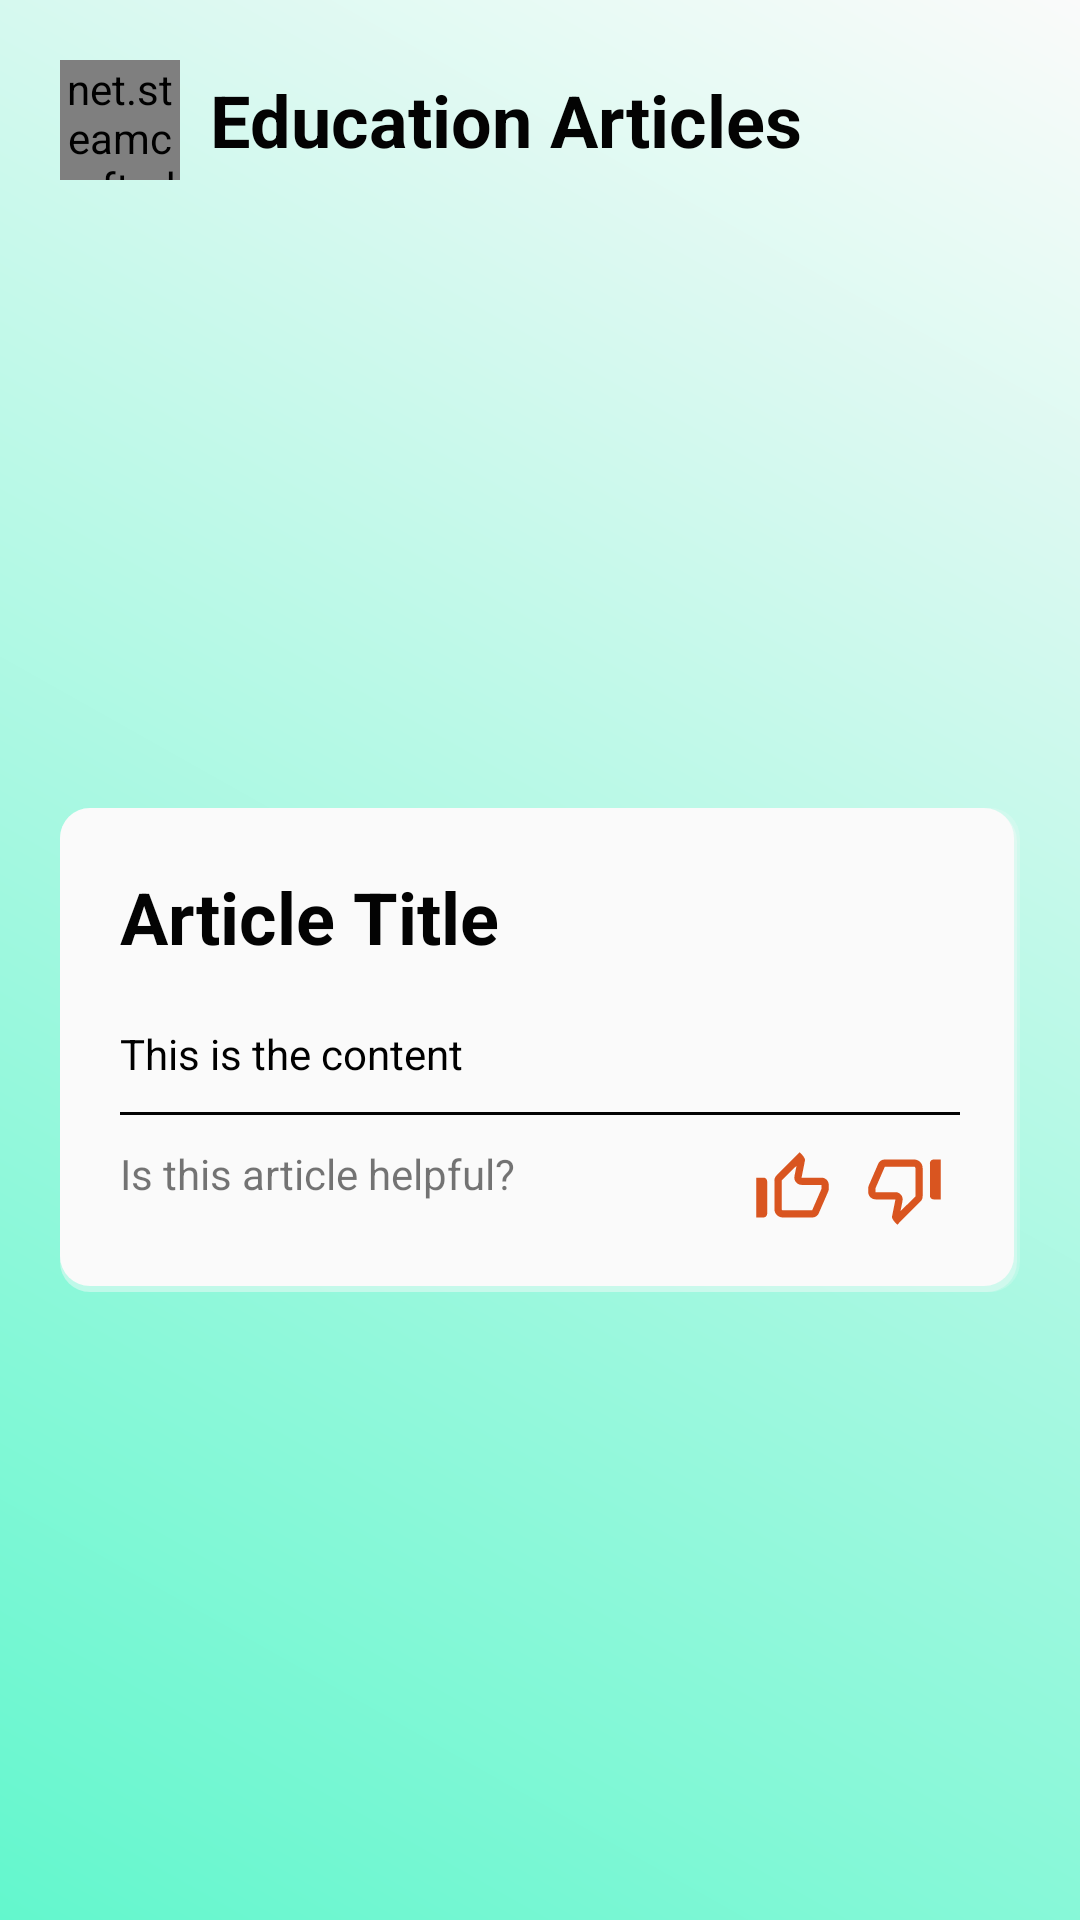

Icon click points for this 1080 × 1920 phone screenshot, format [x,y]:
thumb down off: [904,1192]
thumb up off: [792,1185]
